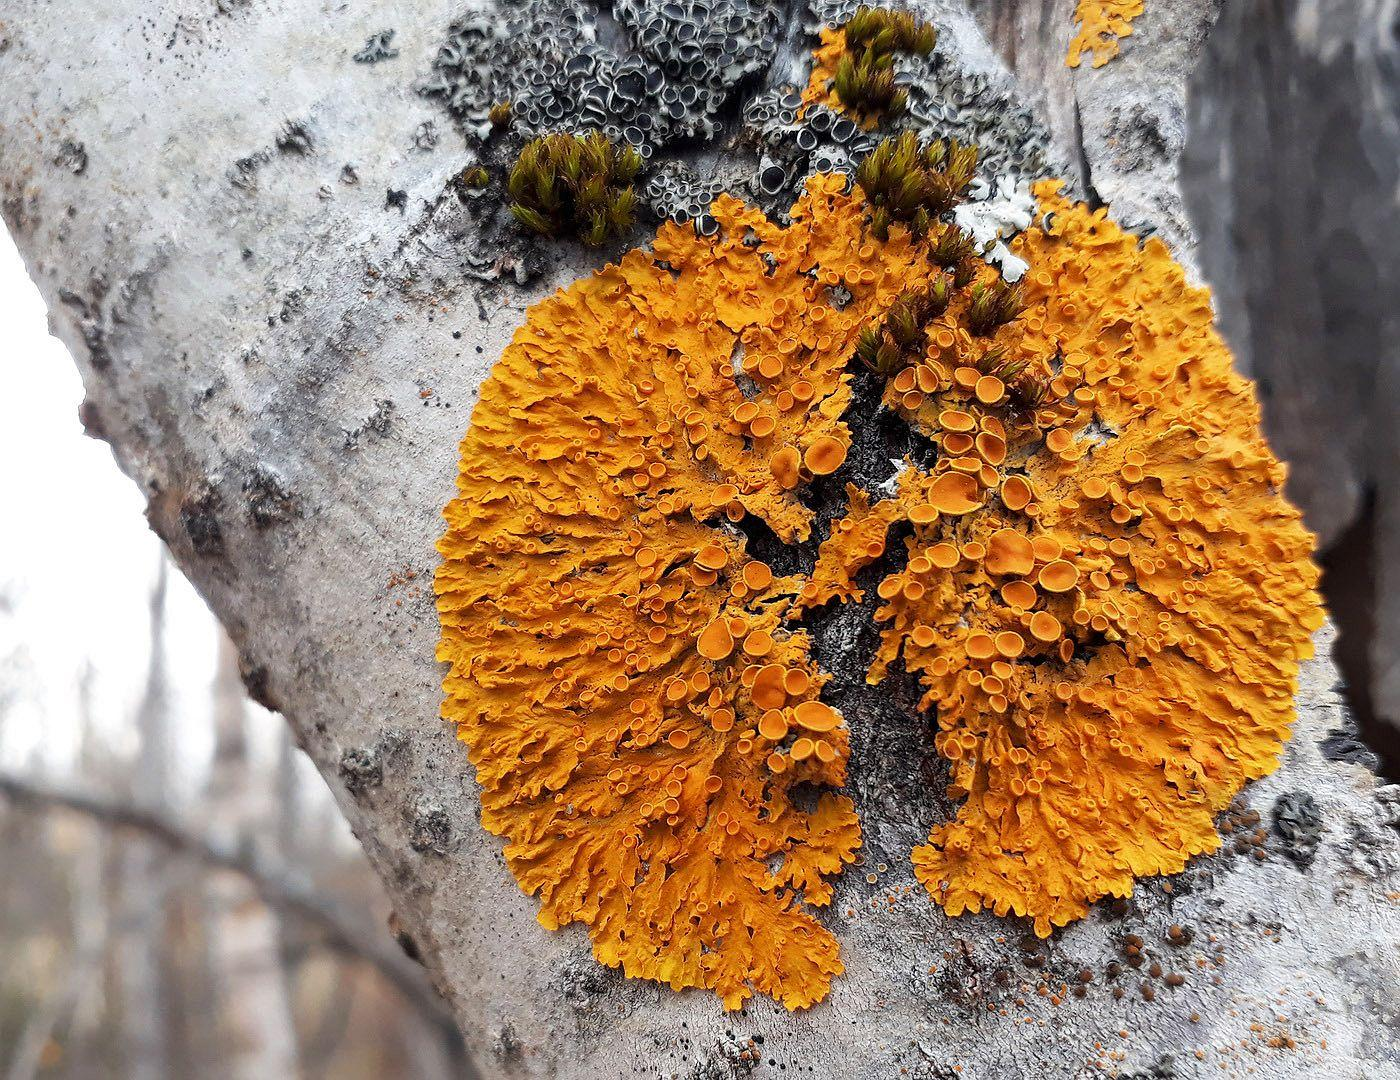lichen: (435, 179, 926, 1009), (869, 182, 1322, 935)
